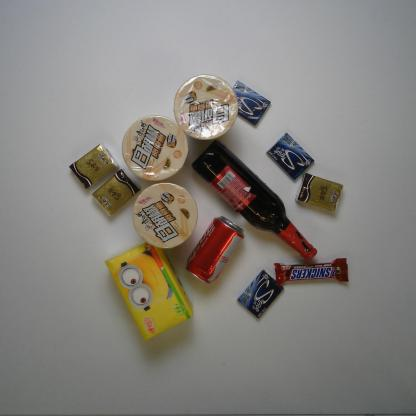Alcohol: (192, 139, 318, 261)
Chocolate: (274, 258, 349, 286)
Drink: (186, 216, 245, 284)
Gum: (266, 132, 314, 181), (237, 270, 284, 318), (223, 81, 271, 126)
Instant Noodles: (173, 74, 238, 141), (121, 116, 189, 180), (133, 182, 198, 248)
Tissue: (104, 236, 194, 341), (69, 142, 119, 190), (91, 169, 140, 217), (296, 172, 344, 213)
